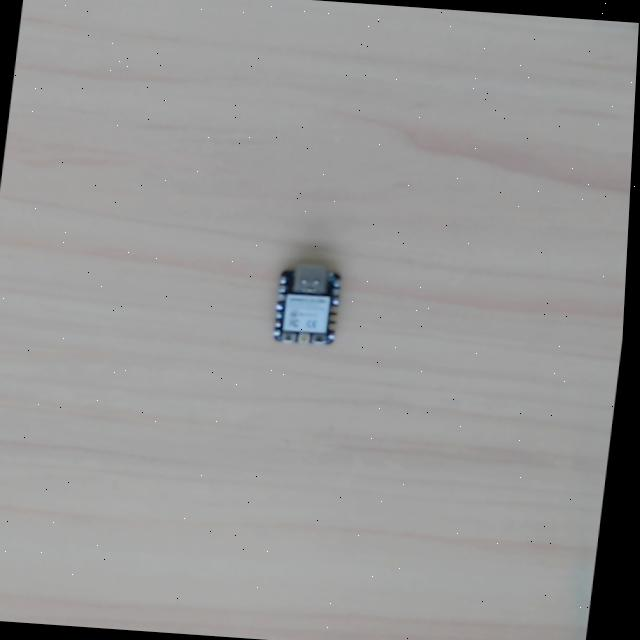ESP32C3-Xiao: (271, 259, 341, 346)
